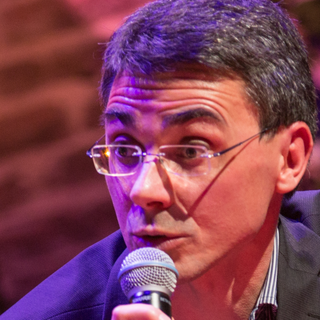eye: (172, 136, 212, 166), (109, 141, 145, 160)
